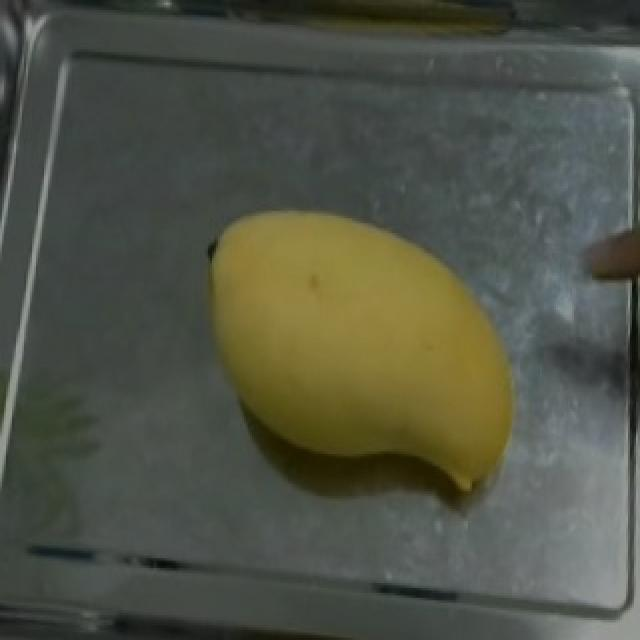fruit: (180, 176, 544, 496)
